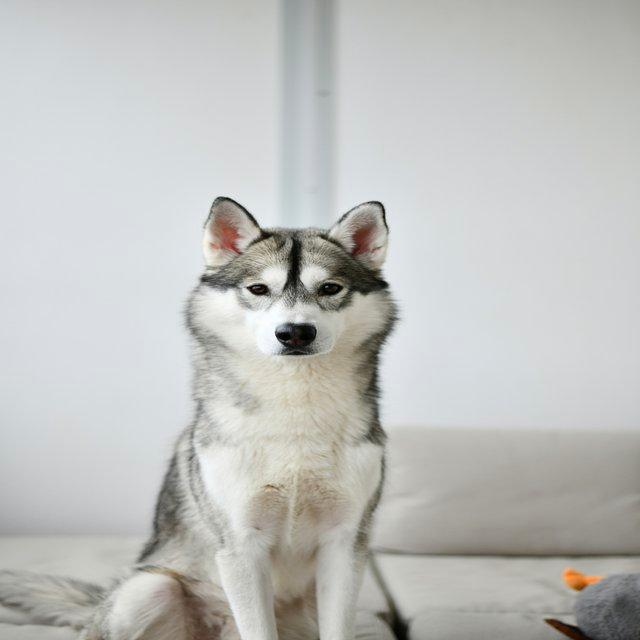husky: (0, 194, 400, 638)
